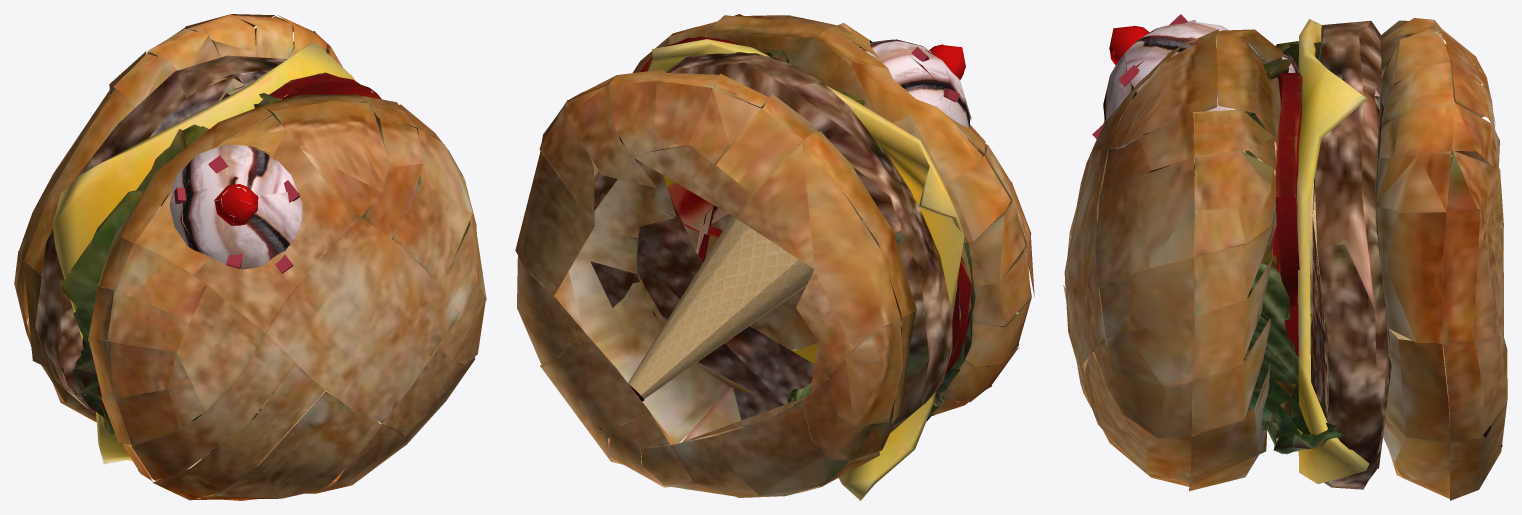
Rendered from af1_buice.glb.
3 renders of one model, left to right at view 1: azimuth 30°, elevation 25°; view 2: azimuth 150°, elevation 25°; view 3: azimuth 270°, elevation 25°, orthographic. The views are drawn at different scales.
Visible parts, largest first — view 1: burger, ice; view 2: burger, ice; view 3: burger, ice.
Part boxes in pixels (x1=…): burger: x1=14, y1=14, x2=486, y2=500; ice: x1=156, y1=144, x2=326, y2=310; burger: x1=515, y1=14, x2=1034, y2=500; ice: x1=599, y1=39, x2=971, y2=429; burger: x1=1063, y1=18, x2=1507, y2=500; ice: x1=1092, y1=14, x2=1502, y2=447.
Bounding box in the file's own units: 3.43 × 3.24 × 2.94.
2 materials, 2 textured.
